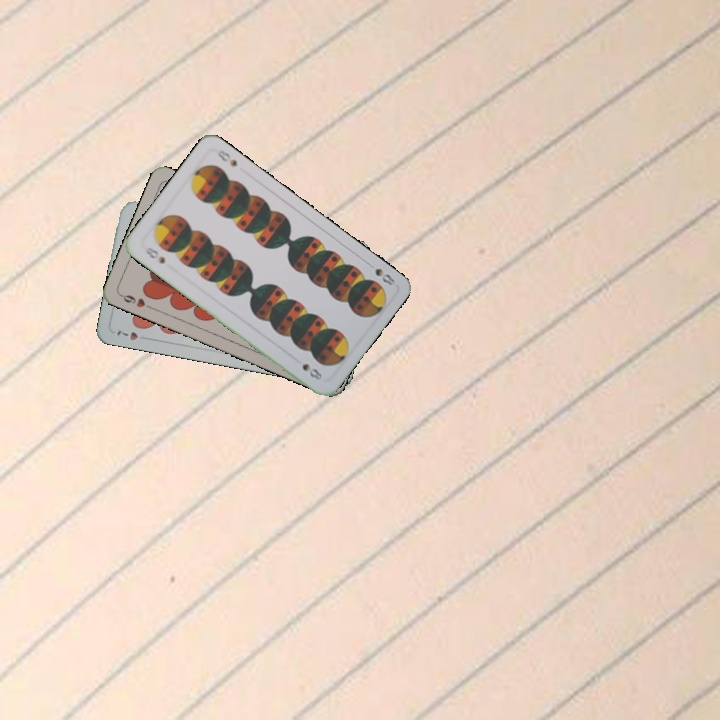H7: (113, 326, 151, 343)
H9: (116, 290, 155, 311)
S8: (363, 258, 398, 288), (141, 243, 168, 266)
